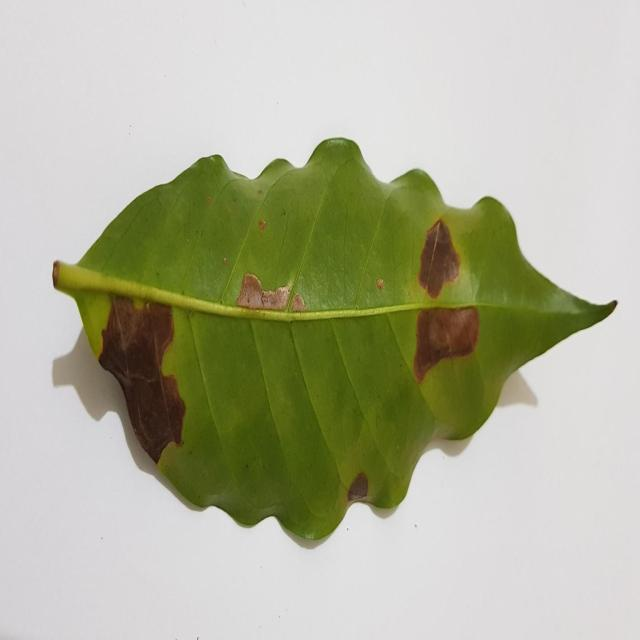Plaga-Minador: (51, 137, 619, 551)
